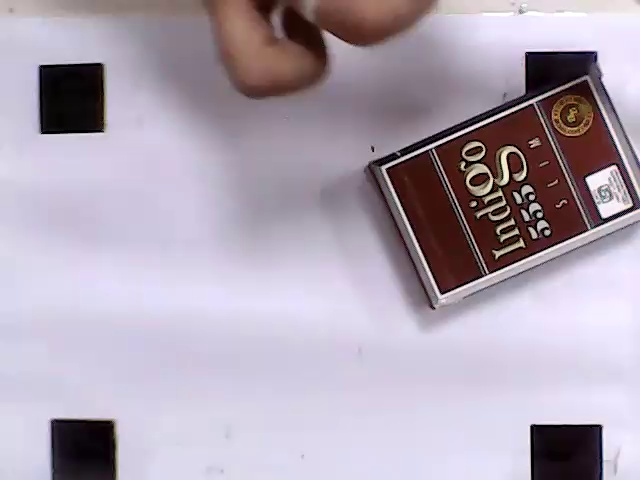BEX: (381, 77, 640, 296)
